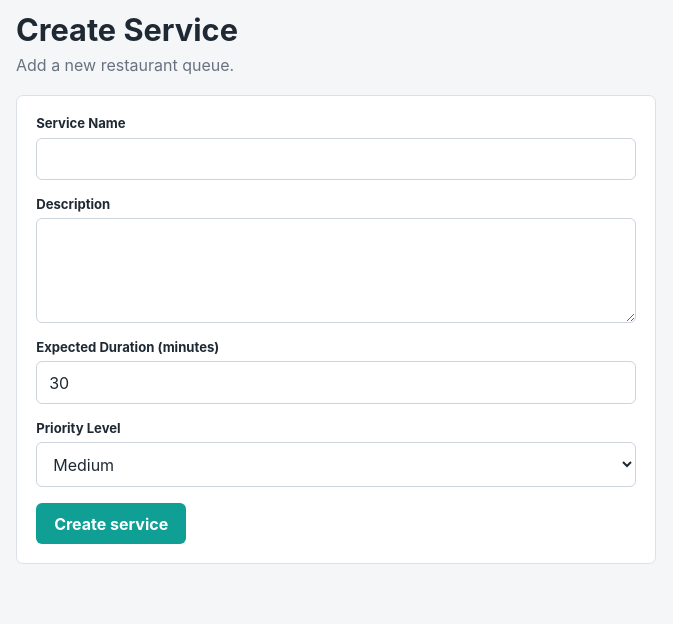
Test: service management › does not submit when required fields are missing
Click the button "Create service" at [111, 524], box [36,503,186,544]
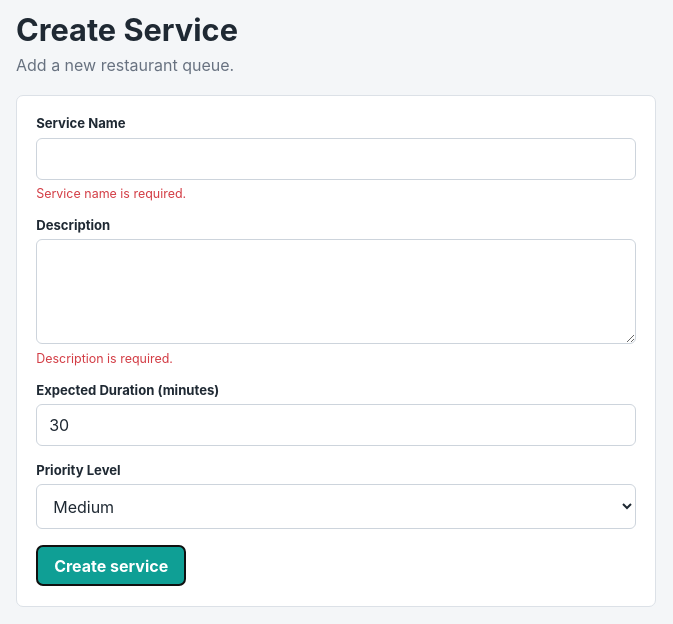
Expected: the text "Service name is required." is shown, [36,186,186,201]
